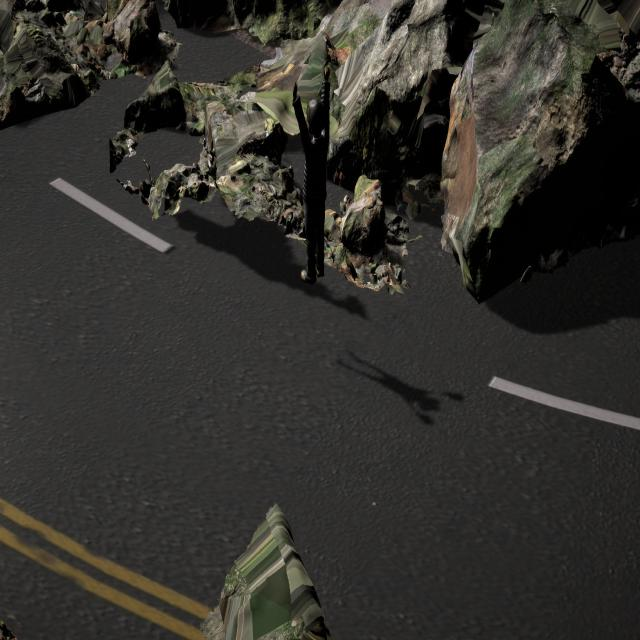Human: (284, 52, 332, 298)
